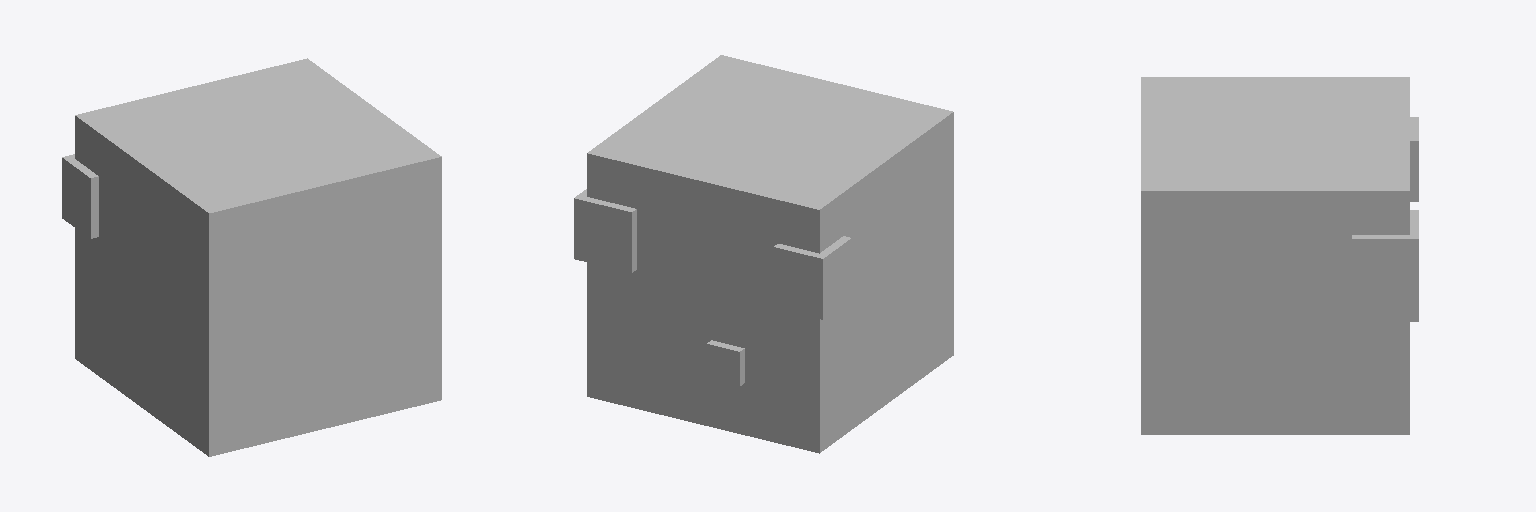
Rendered from slime.obj.
The picture shows the model from 3 angles: view 1: azimuth 30°, elevation 25°; view 2: azimuth 150°, elevation 25°; view 3: azimuth 270°, elevation 25°; orthographic projection.
Parts seen in each view (by area): view 1: object 1; view 2: object 1; view 3: object 1.
Boxes of the visible parts, x1,y1,x2,y2 form: object 1: [62, 58, 441, 456]; object 1: [574, 55, 953, 453]; object 1: [1141, 77, 1418, 434].
Bounding box in the file's own units: 3 × 2.8 × 2.9.